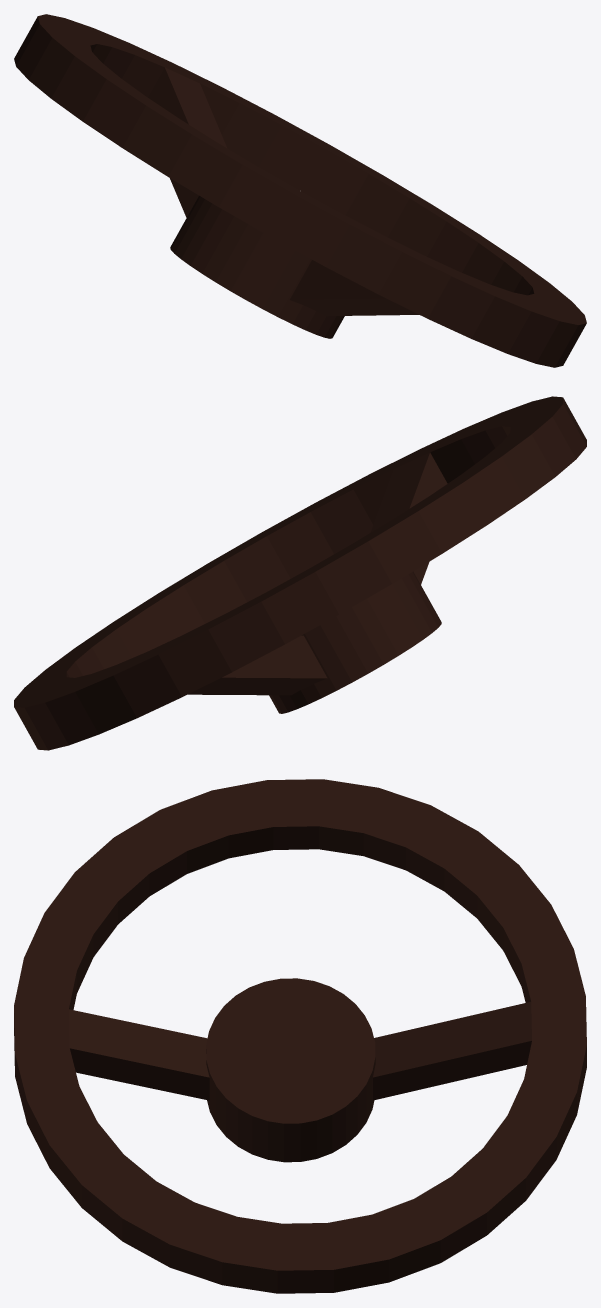
The model's file is forklift-driving-wheel.glb.
3 renders of one model, top to bottom at view 1: azimuth 30°, elevation 25°; view 2: azimuth 150°, elevation 25°; view 3: azimuth 270°, elevation 25°, orthographic. The views are drawn at different scales.
Parts seen in each view (by area): view 1: Circle; view 2: Circle; view 3: Circle.
Boxes of the visible parts, x1,y1,x2,y2 form: Circle: [14, 14, 586, 367]; Circle: [14, 396, 586, 750]; Circle: [14, 779, 586, 1293].
Size of the model in its own units: 0.715 by 0.5125 by 0.8198.
